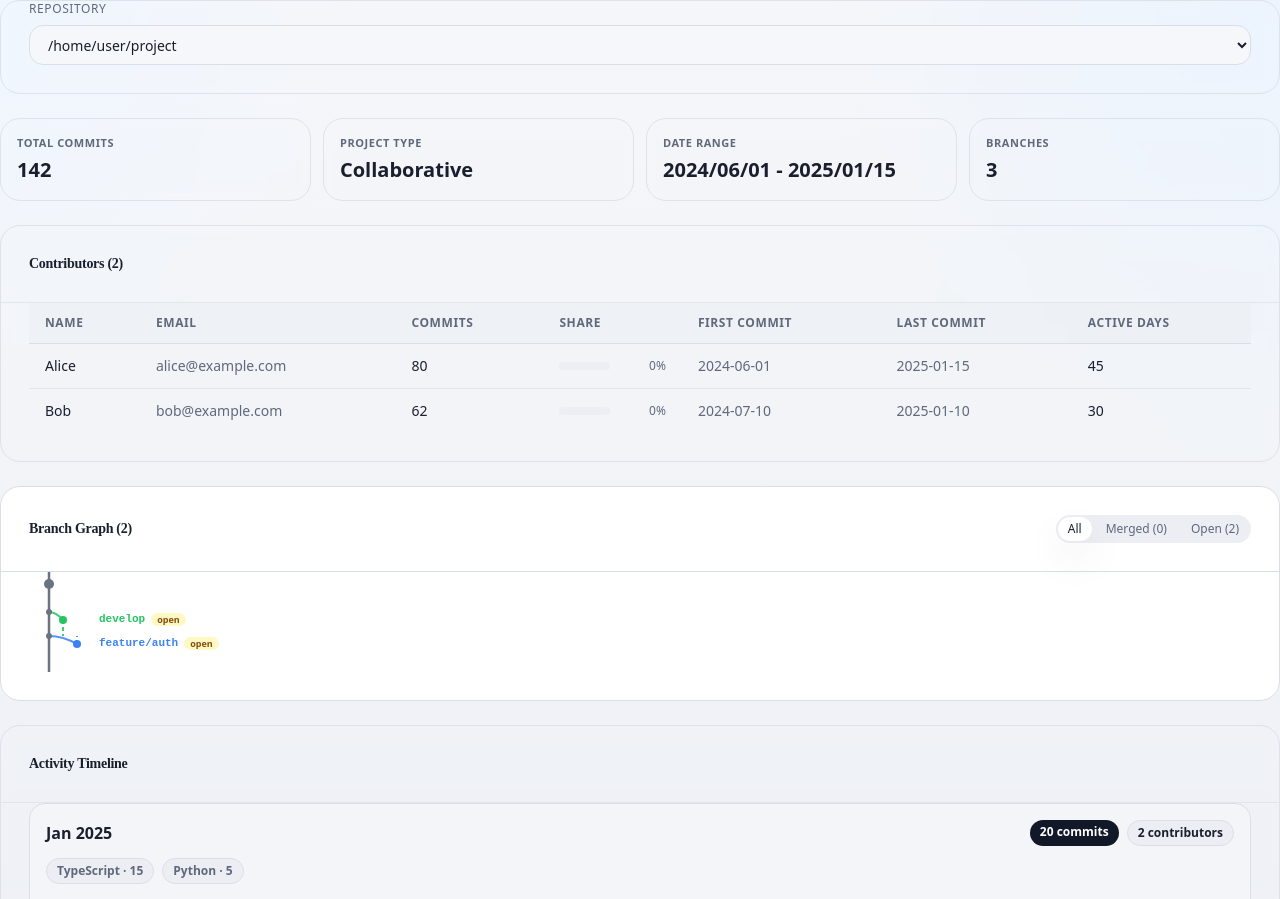
Test: GitAnalysisTab — multi-repo selector › switches displayed data when selecting another repo
Expected: the text "142" is shown, [17,156,51,182]
# Select second repo
Step 1. Select "/home/user/other-repo" in the dropdown → (640, 45), box [29,25,1251,65]
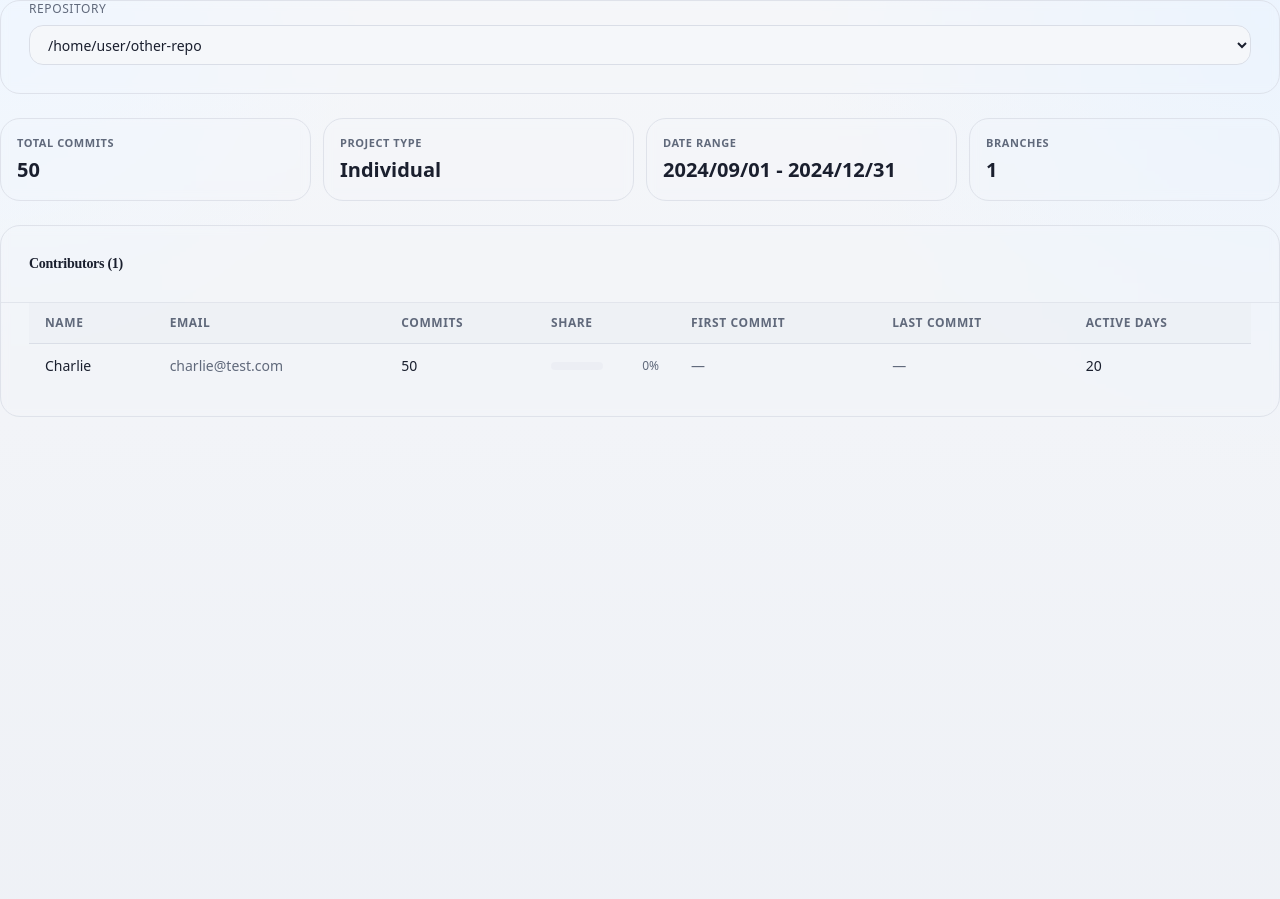
Now the text "Individual" is shown, box [340,156,441,182]
Now the text "Charlie" is shown, box [29,343,154,388]
